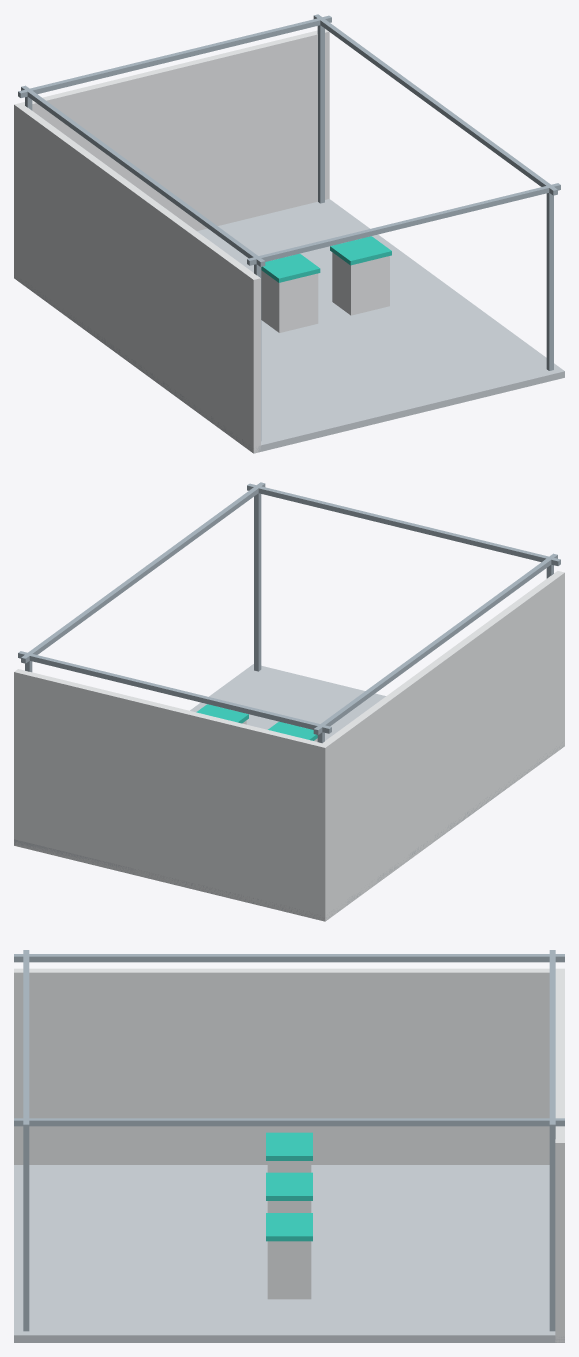
3 renders of one model, top to bottom at view 1: azimuth 30°, elevation 25°; view 2: azimuth 150°, elevation 25°; view 3: azimuth 270°, elevation 25°, orthographic. The views are drawn at different scales.
Parts seen in each view (by area): view 1: Exhibition Booth Concept; view 2: Exhibition Booth Concept; view 3: Exhibition Booth Concept.
Part boxes in pixels (bbox=[...]): Exhibition Booth Concept: bbox=[14, 14, 564, 453]; Exhibition Booth Concept: bbox=[14, 482, 564, 921]; Exhibition Booth Concept: bbox=[14, 950, 564, 1342].
Size of the model in its own units: 6 by 3.49 by 8.
